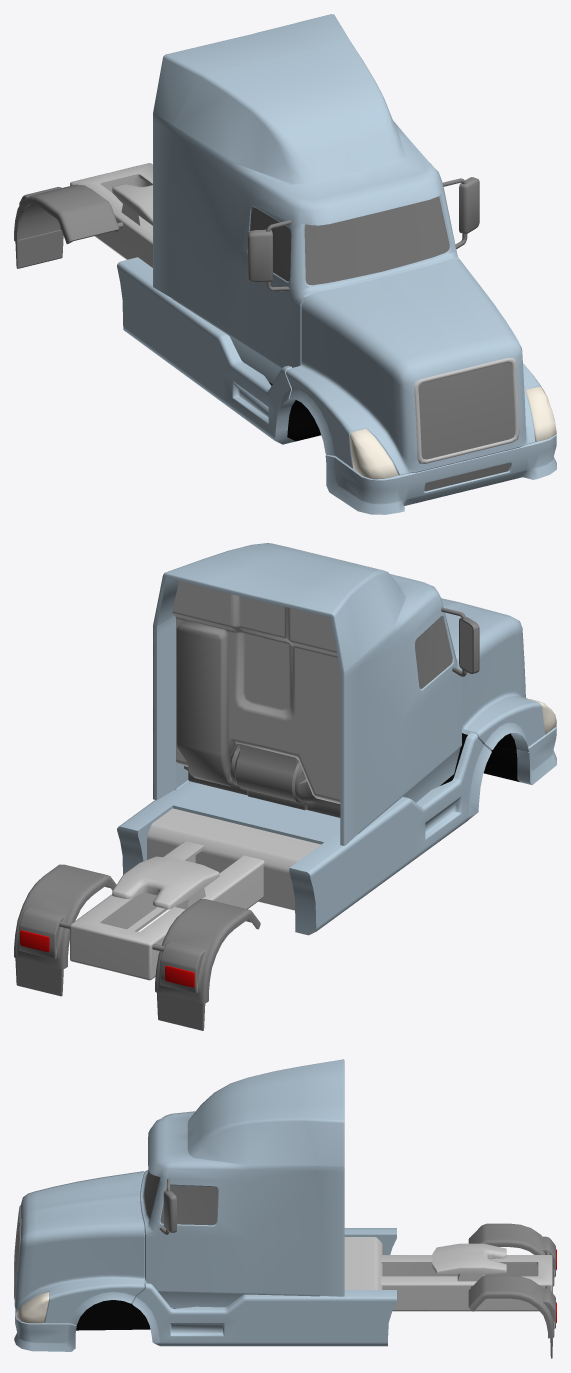
File: TruckChassis.FBX
The picture shows the model from 3 angles, top to bottom: view 1: azimuth 30°, elevation 25°; view 2: azimuth 150°, elevation 25°; view 3: azimuth 270°, elevation 25°; orthographic projection. The views are drawn at different scales.
Visible parts, largest first — view 1: Truck; view 2: Truck; view 3: Truck.
Part boxes in pixels (x1,y1,x2,y2): Truck: [14, 14, 556, 514]; Truck: [14, 543, 556, 1030]; Truck: [14, 1059, 556, 1358].
Size of the model in its own units: 259 by 336 by 704.
